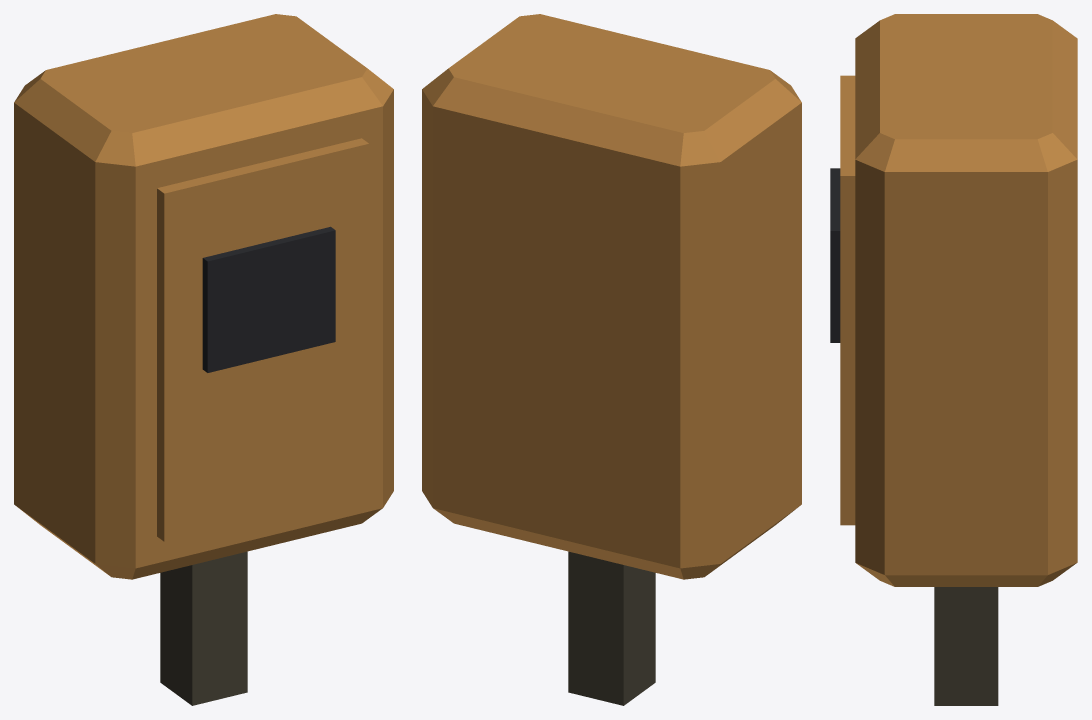
The model's file is SM_Street_JunctionBox_01.fbx.
3 renders of one model, left to right at view 1: azimuth 30°, elevation 25°; view 2: azimuth 150°, elevation 25°; view 3: azimuth 270°, elevation 25°, orthographic.
Parts seen in each view (by area): view 1: SM_Street_JunctionBox_01; view 2: SM_Street_JunctionBox_01; view 3: SM_Street_JunctionBox_01.
Part boxes in pixels (x1,y1,x2,y2): SM_Street_JunctionBox_01: [14, 14, 393, 705]; SM_Street_JunctionBox_01: [422, 14, 801, 705]; SM_Street_JunctionBox_01: [830, 14, 1077, 705].
Size of the model in its own units: 0.14 by 0.275 by 0.1.
1 material, 1 textured.
